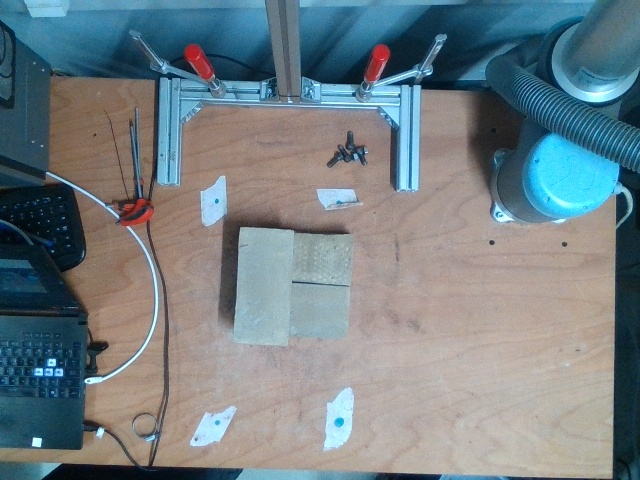brick: (229, 230, 293, 346)
